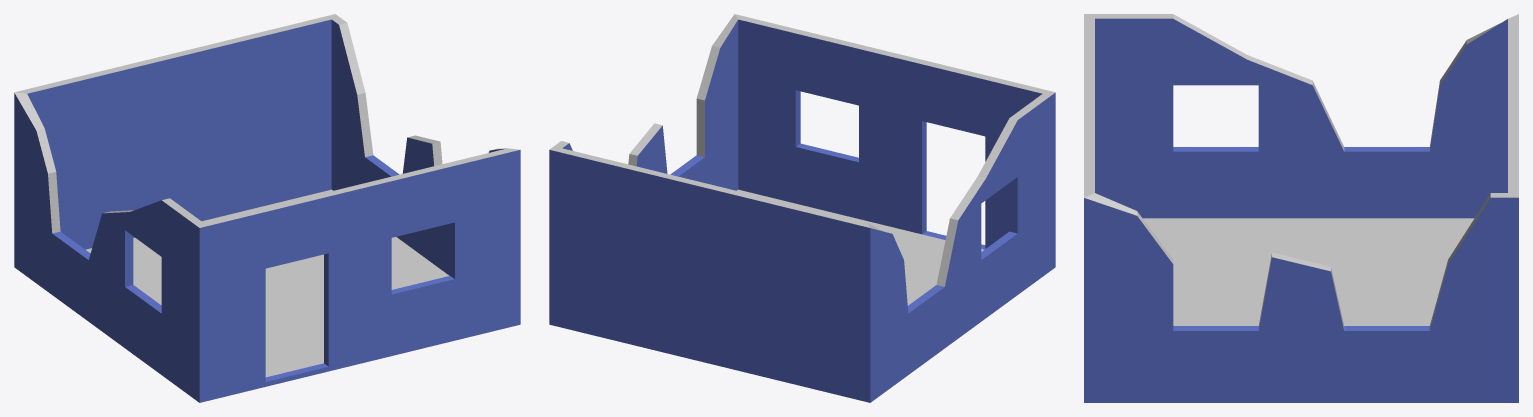
Rendered from building_1.fbx.
3 renders of one model, left to right at view 1: azimuth 30°, elevation 25°; view 2: azimuth 150°, elevation 25°; view 3: azimuth 270°, elevation 25°, orthographic. The views are drawn at different scales.
Visible parts, largest first — view 1: Cube; view 2: Cube; view 3: Cube.
Part boxes in pixels (x1,y1,x2,y2): Cube: (14,14,520,402); Cube: (549,14,1055,402); Cube: (1084,14,1518,402).
Bounding box in the file's own units: 4008 × 2086 × 4008.
